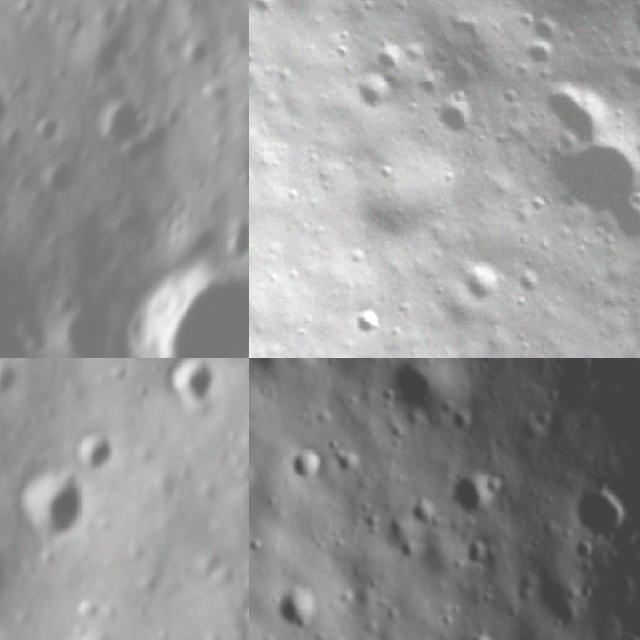crater: (94, 223, 249, 358), (524, 111, 640, 250), (524, 56, 636, 162), (0, 223, 72, 358), (88, 79, 170, 164), (14, 469, 104, 546), (379, 358, 459, 421), (341, 62, 404, 126), (28, 148, 90, 209), (454, 252, 514, 312), (428, 89, 488, 148), (574, 481, 630, 537), (165, 358, 226, 408), (512, 24, 566, 78), (166, 26, 221, 79), (365, 32, 419, 83), (599, 190, 640, 256), (22, 102, 74, 154), (524, 5, 576, 57), (273, 584, 324, 636), (65, 430, 121, 477), (452, 469, 498, 520), (286, 441, 328, 492), (344, 300, 390, 346), (613, 0, 640, 67), (510, 262, 550, 304), (546, 595, 583, 637), (0, 82, 23, 146), (444, 401, 477, 442), (332, 449, 368, 482), (0, 358, 30, 395), (466, 537, 488, 569), (611, 630, 640, 640), (464, 633, 501, 640), (633, 534, 640, 560)
